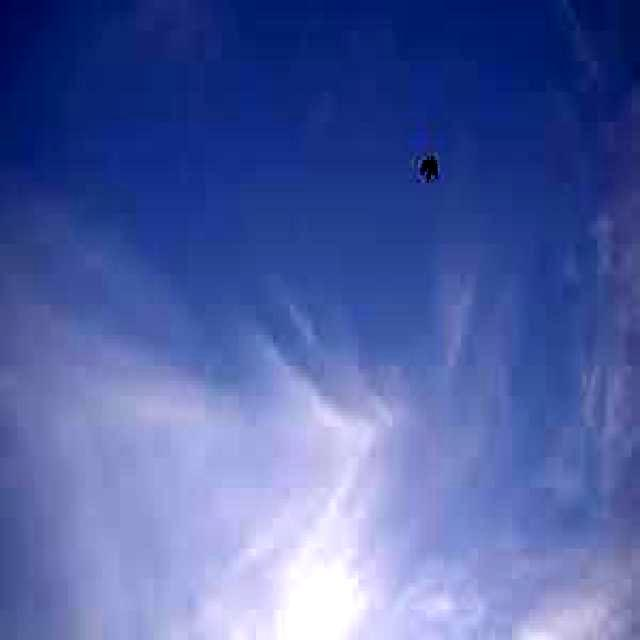bird: (418, 144, 439, 186)
